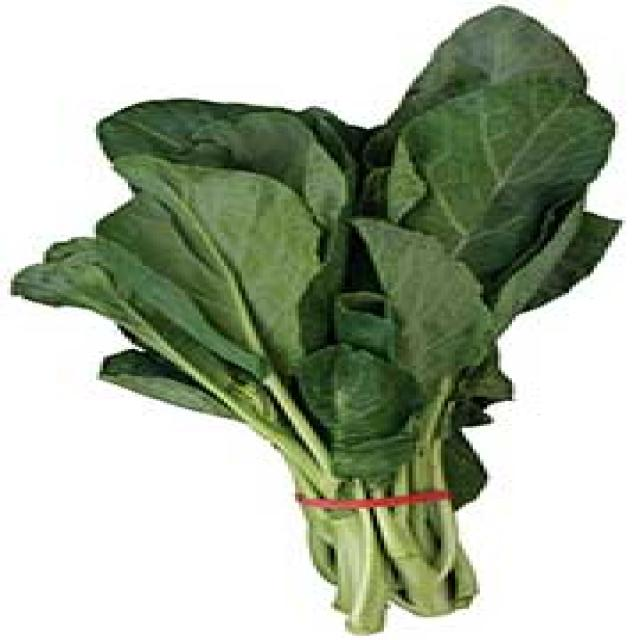collard: (17, 7, 626, 626)
